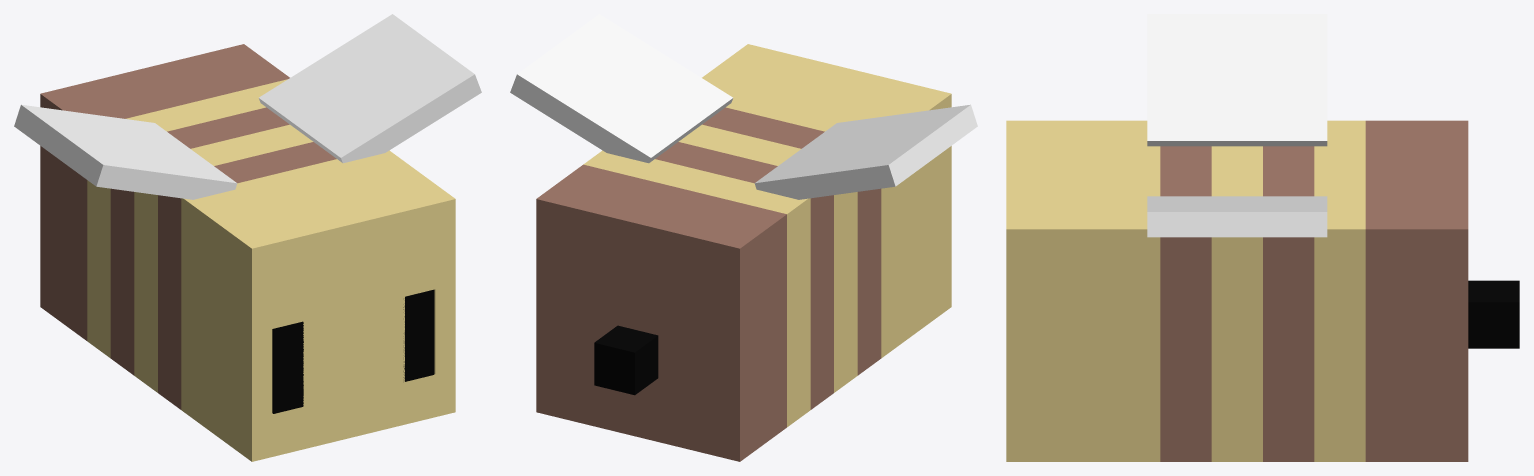
File: Biene.glb
3 views of the same model, side by side, from view 1: azimuth 30°, elevation 25°; view 2: azimuth 150°, elevation 25°; view 3: azimuth 270°, elevation 25° (orthographic). The views are drawn at different scales.
Bounding box in the file's own units: 0.946 × 0.6833 × 1.
